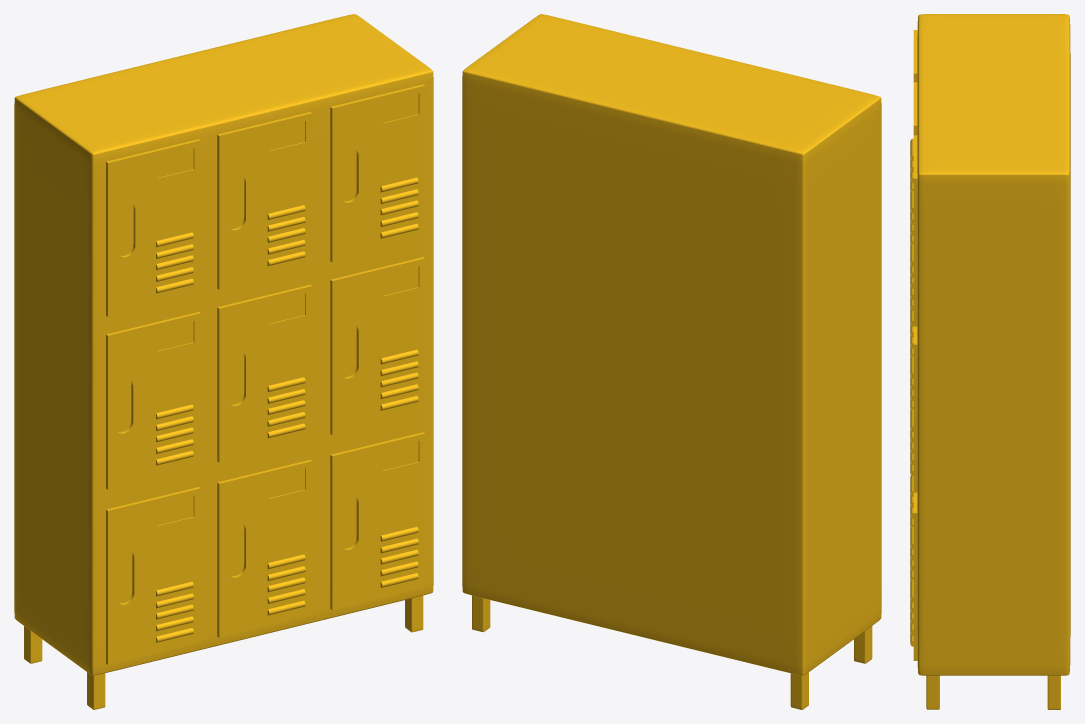
The model's file is Locker.glb.
The picture shows the model from 3 angles, left to right: view 1: azimuth 30°, elevation 25°; view 2: azimuth 150°, elevation 25°; view 3: azimuth 270°, elevation 25°; orthographic projection. The views are drawn at different scales.
Visible parts, largest first — view 1: Lock1, Lock50, Lock54, Lock51, Lock55, Lock52, Lock49, Lock47, Lock48, Lock53, Lock57; view 2: Lock1, Lock_2; view 3: Lock1, Lock54, Lock50, Lock51, Lock56, Lock_1.
Boxes of the visible parts, x1=… form: Lock1: x1=14, y1=14, x2=433, y2=675; Lock50: x1=330, y1=432, x2=425, y2=610; Lock54: x1=330, y1=84, x2=425, y2=262; Lock51: x1=330, y1=257, x2=425, y2=434; Lock55: x1=217, y1=112, x2=312, y2=289; Lock52: x1=217, y1=284, x2=312, y2=462; Lock49: x1=217, y1=460, x2=312, y2=637; Lock47: x1=106, y1=139, x2=200, y2=316; Lock48: x1=106, y1=487, x2=200, y2=664; Lock53: x1=106, y1=312, x2=200, y2=489; Lock57: x1=87, y1=672, x2=105, y2=709; Lock1: x1=462, y1=14, x2=881, y2=675; Lock_2: x1=790, y1=672, x2=808, y2=709; Lock1: x1=917, y1=14, x2=1070, y2=675; Lock54: x1=913, y1=135, x2=917, y2=326; Lock50: x1=913, y1=492, x2=917, y2=660; Lock51: x1=913, y1=326, x2=917, y2=492; Lock56: x1=926, y1=675, x2=939, y2=709; Lock_1: x1=1047, y1=675, x2=1060, y2=709.
Bounding box in the file's own units: 6.72 × 10.52 × 2.83.
